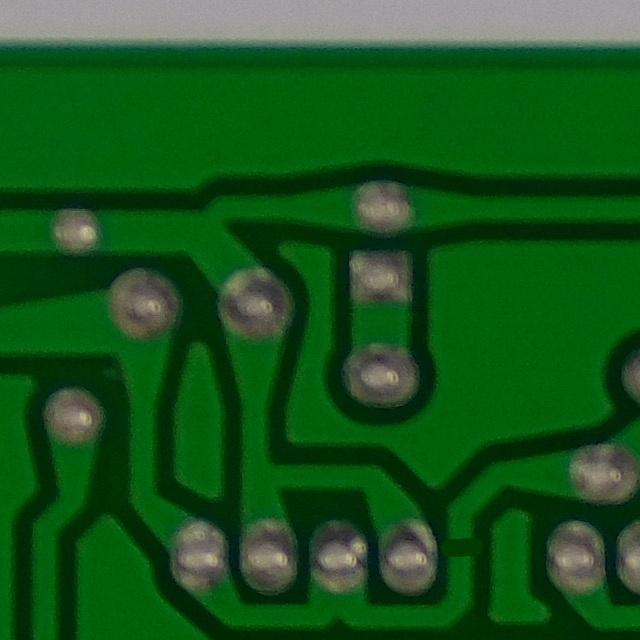open_circuit: (440, 526, 487, 570)
